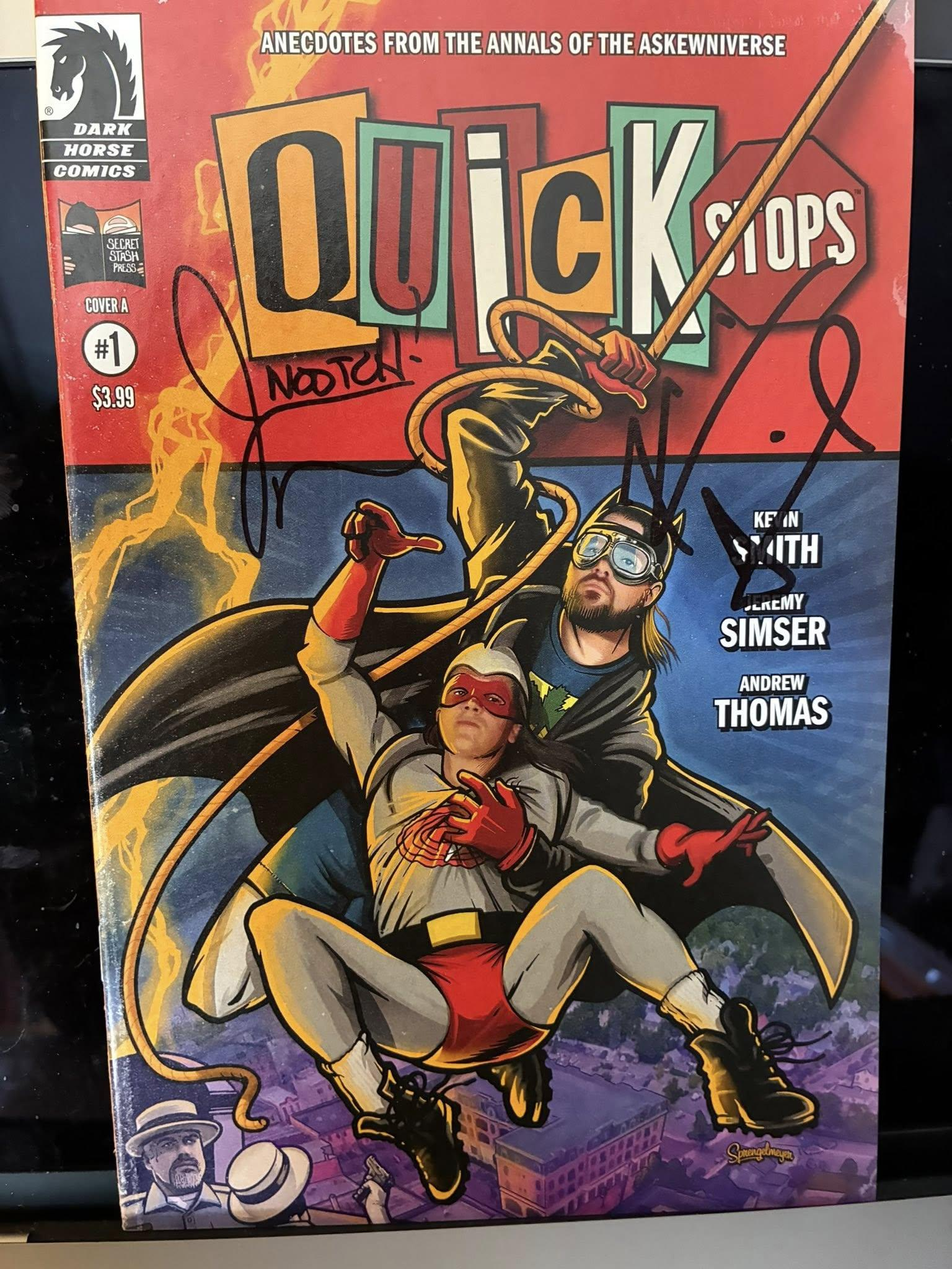comic: (37, 0, 912, 1230)
